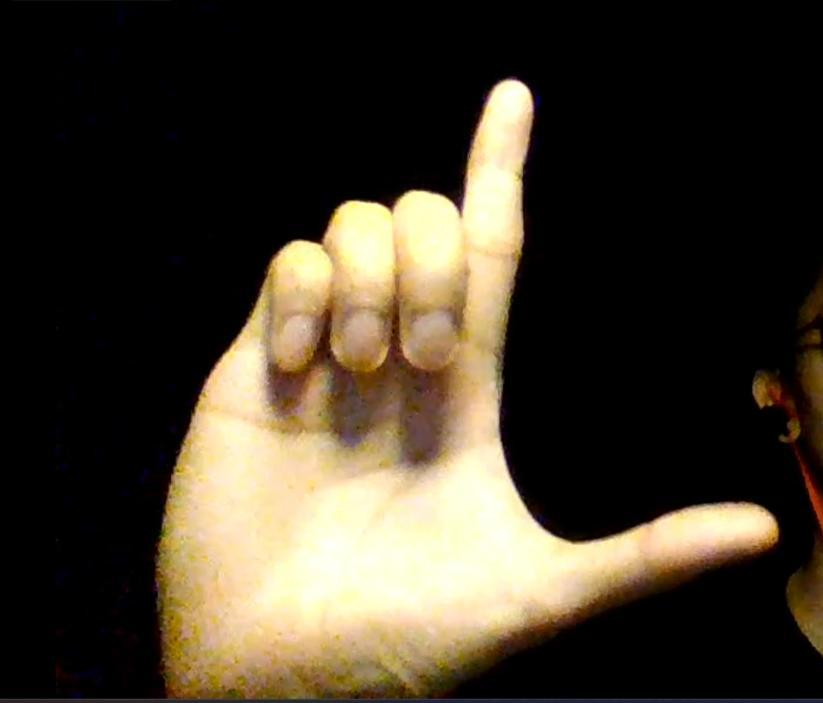l: (153, 78, 780, 703)
